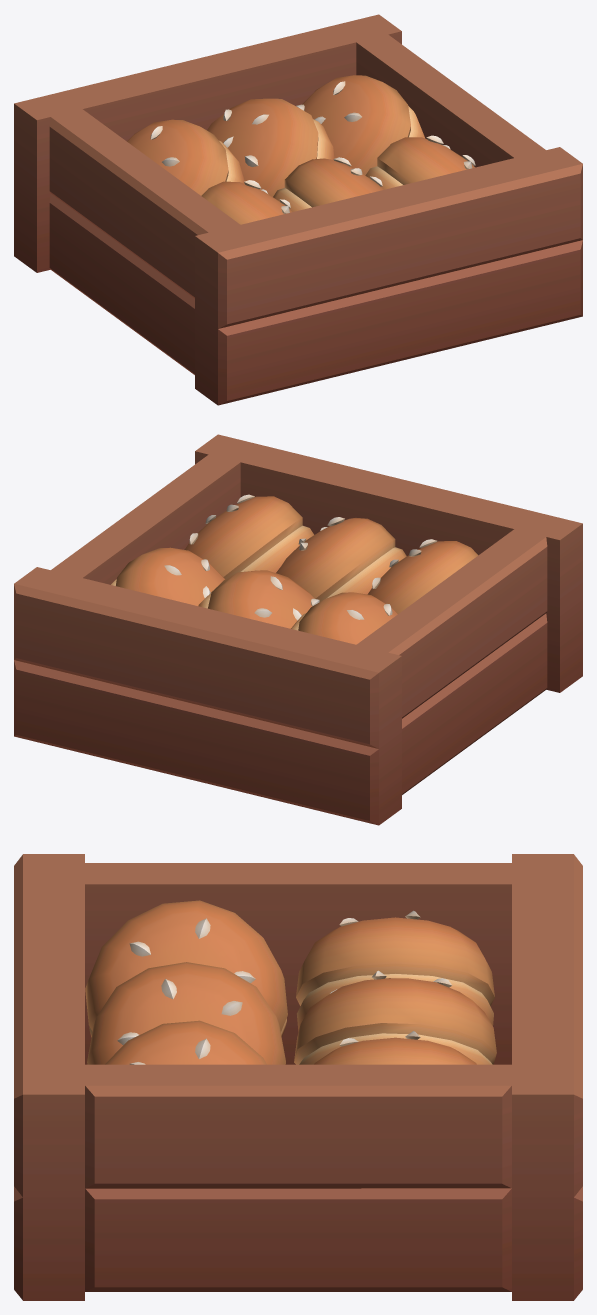
The model's file is bread_counter.glb.
3 renders of one model, top to bottom at view 1: azimuth 30°, elevation 25°; view 2: azimuth 150°, elevation 25°; view 3: azimuth 270°, elevation 25°, orthographic. The views are drawn at different scales.
Visible parts, largest first — view 1: crate_buns; view 2: crate_buns; view 3: crate_buns.
Part boxes in pixels (left/top/right/bottom): crate_buns: left=14, top=14, right=582, bottom=405; crate_buns: left=14, top=434, right=582, bottom=825; crate_buns: left=14, top=854, right=582, bottom=1300.
Bounding box in the file's own units: 2 × 0.8024 × 2.
Materials: 1 (1 with a texture image).
